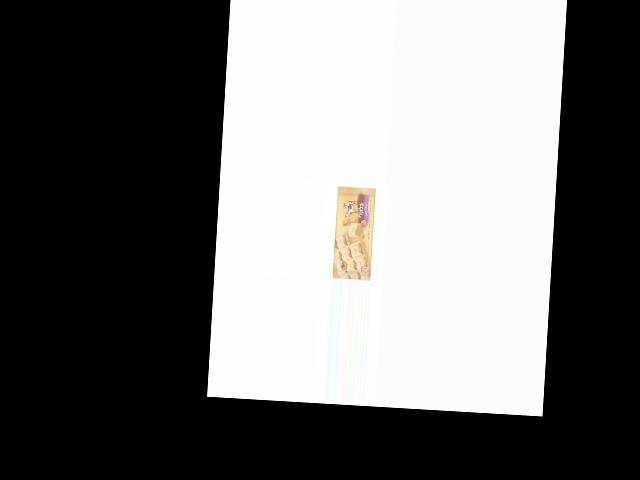chocolate: (332, 183, 378, 280)
